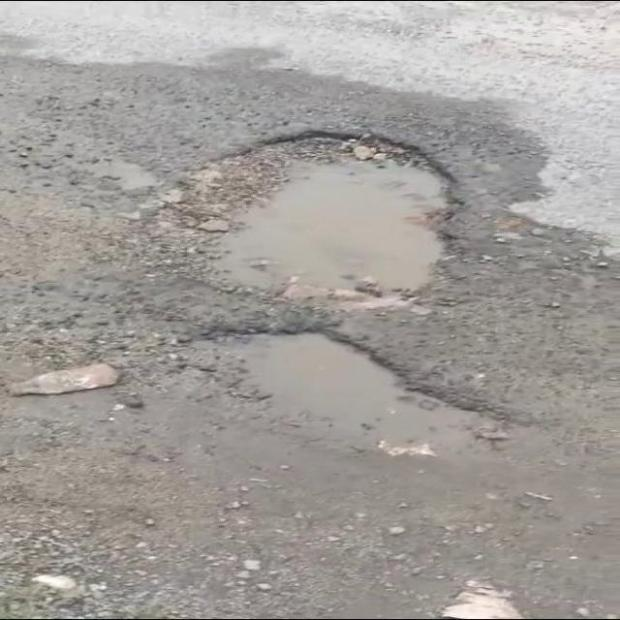lubang: (196, 334, 505, 498), (147, 138, 447, 306)
